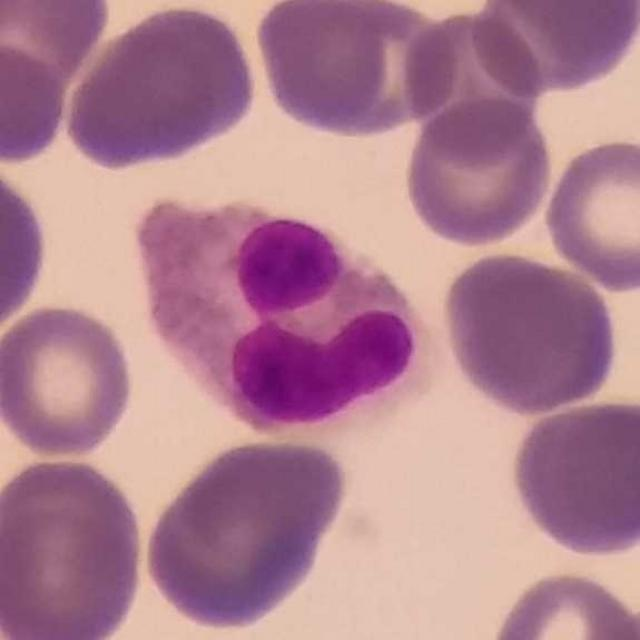eosino: (137, 195, 444, 451)
